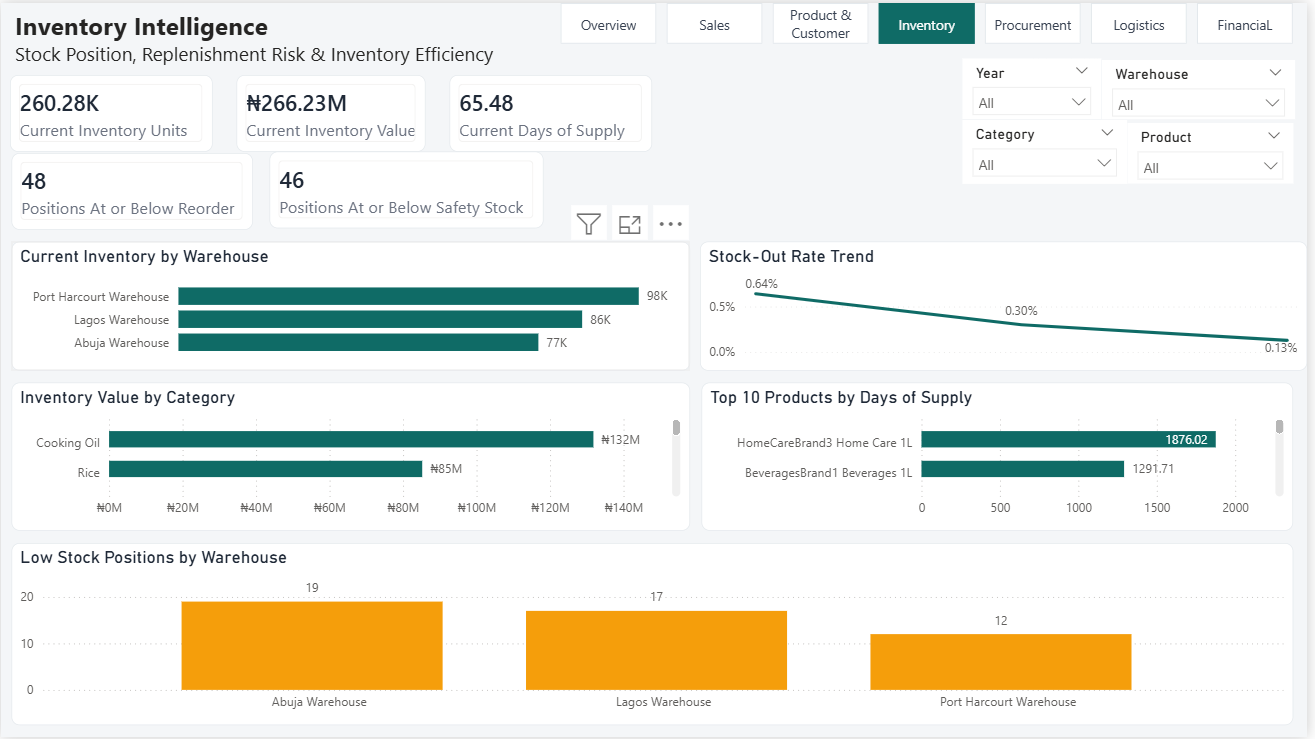

What the dashboard file says about the page in this screenshot:
{"tool":"powerbi","page":{"name":"Inventory ","canvas":[1280,720],"ordinal":3},"visuals":[{"type":"textbox","box":[9.4,0,506.4,78.1],"z":0},{"type":"slicer","fields":{"Values":["warehouses.WarehouseName"]},"box":[1079.3,56.3,189.3,57.9],"z":1000},{"type":"cardVisual","fields":{"Data":["Measures_Table.Current Inventory Units"]},"box":[9.4,70,198.6,75.1],"z":2000},{"type":"cardVisual","fields":{"Data":["Measures_Table.Current Inventory Value"]},"box":[231.5,70,185,75],"z":3000},{"type":"cardVisual","fields":{"Data":["Measures_Table.Current Days of Supply"]},"box":[440,70,198.3,75],"z":4000},{"type":"cardVisual","fields":{"Data":["Measures_Table.Positions At or Below Reorder"]},"box":[10,146.7,236.7,75],"z":5000},{"type":"cardVisual","fields":{"Data":["Measures_Table.Positions At or Below Safety Stock"]},"box":[263.3,145,268.3,75],"z":6000},{"type":"clusteredBarChart","title":"Current Inventory by Warehouse","fields":{"Y":["Measures_Table.Current Inventory Units"],"Category":["warehouses.WarehouseName"]},"box":[10,233.3,665,126.7],"z":7000},{"type":"clusteredBarChart","title":"Inventory Value by Category","fields":{"Category":["categories.CategoryName"],"Y":["Measures_Table.Current Inventory Value"]},"box":[10,371.7,665,145],"z":8000},{"type":"lineChart","title":"Stock-Out Rate Trend","fields":{"Y":["Measures_Table.Stock-Out Rate %"],"Category":["Date.Year"]},"box":[685,233.3,595,126.7],"z":9000},{"type":"clusteredBarChart","title":"Top 10 Products by Days of Supply","fields":{"Category":["products.ProductName"],"Y":["Measures_Table.Current Days of Supply"]},"box":[686.7,371.7,580,145],"z":10000},{"type":"clusteredColumnChart","title":"Low Stock Positions by Warehouse","fields":{"Category":["warehouses.WarehouseName"],"Y":["Measures_Table.Low Stock Positions"]},"box":[10,530,1256.7,178.3],"z":11000},{"type":"slicer","fields":{"Values":["Date.Year"]},"box":[943.2,54.7,136.1,59.4],"z":12000},{"type":"slicer","fields":{"Values":["categories.CategoryName"]},"box":[943.2,114.2,161.1,62.6],"z":13000},{"type":"slicer","fields":{"Values":["products.ProductName"]},"box":[1104.3,117.3,162.7,59.4],"z":14000},{"type":"pageNavigator","box":[548.3,0,718.3,40],"z":15000}]}

Visuals, with their boxes in screenshot pixels (x1, y1, x2, y2), scaled from the page's 1280x720 canvas onto the 1315x739 screenshot:
textbox: [10,0,530,80]
slicer - warehouses.WarehouseName: [1109,58,1303,117]
cardVisual - Measures_Table.Current Inventory Units: [10,72,214,149]
cardVisual - Measures_Table.Current Inventory Value: [238,72,428,149]
cardVisual - Measures_Table.Current Days of Supply: [452,72,656,149]
cardVisual - Measures_Table.Positions At or Below Reorder: [10,151,253,228]
cardVisual - Measures_Table.Positions At or Below Safety Stock: [270,149,546,226]
"Current Inventory by Warehouse" clusteredBarChart: [10,239,693,369]
"Inventory Value by Category" clusteredBarChart: [10,382,693,530]
"Stock-Out Rate Trend" lineChart: [704,239,1314,369]
"Top 10 Products by Days of Supply" clusteredBarChart: [705,382,1301,530]
"Low Stock Positions by Warehouse" clusteredColumnChart: [10,544,1301,727]
slicer - Date.Year: [969,56,1109,117]
slicer - categories.CategoryName: [969,117,1134,181]
slicer - products.ProductName: [1134,120,1302,181]
pageNavigator: [563,0,1301,41]
